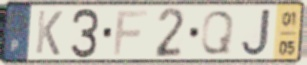2: (153, 6, 186, 59)
3: (68, 6, 102, 61)
F: (111, 8, 150, 57)
J: (239, 7, 273, 58)
K: (33, 9, 64, 58)
Q: (198, 9, 236, 57)
